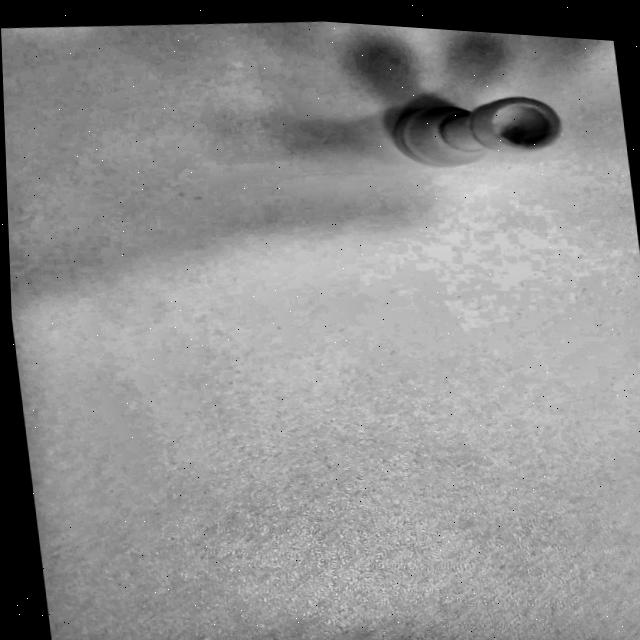white-rook: (362, 48, 560, 165)
